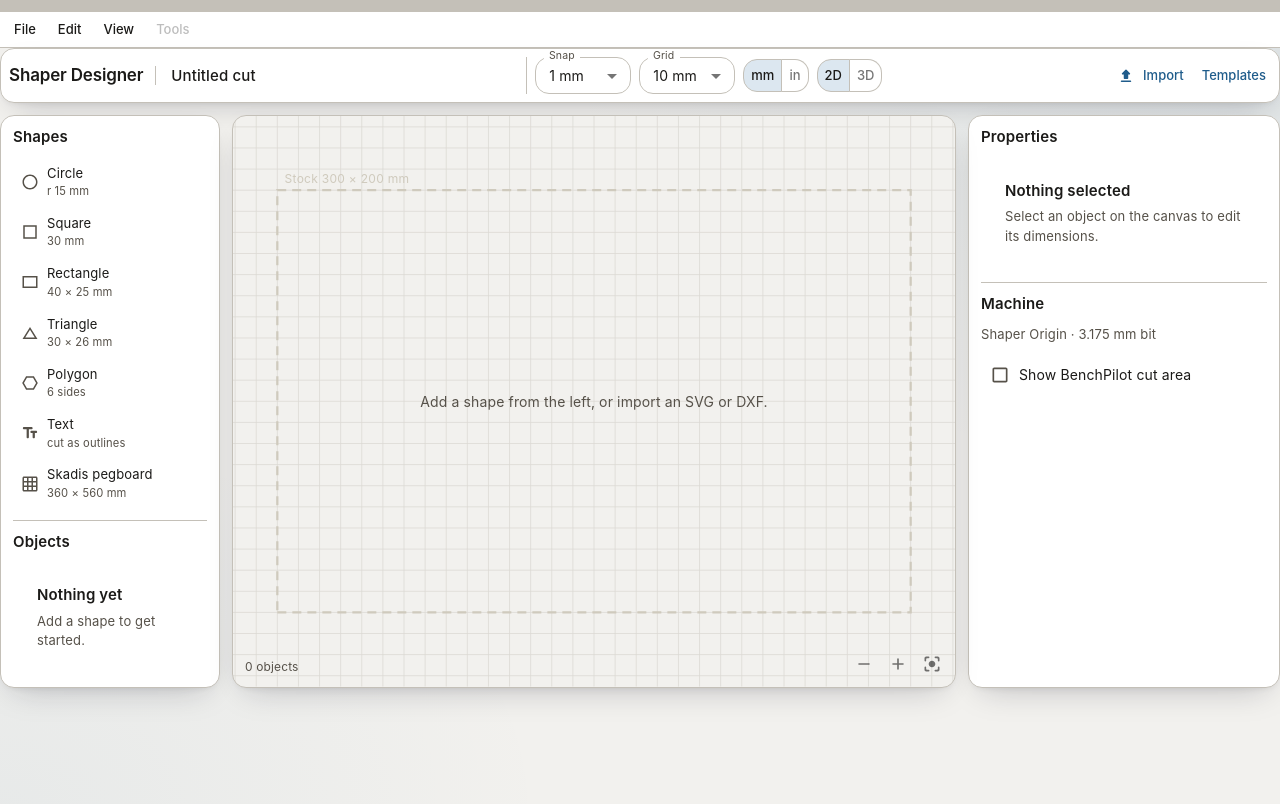
Test: a newly added shape defaults to an exterior cut, the only one that frees a part
The image size is (1280, 804).
Click the button "Circle r 15 mm".
click(55, 181)  # box [21,165,89,198]
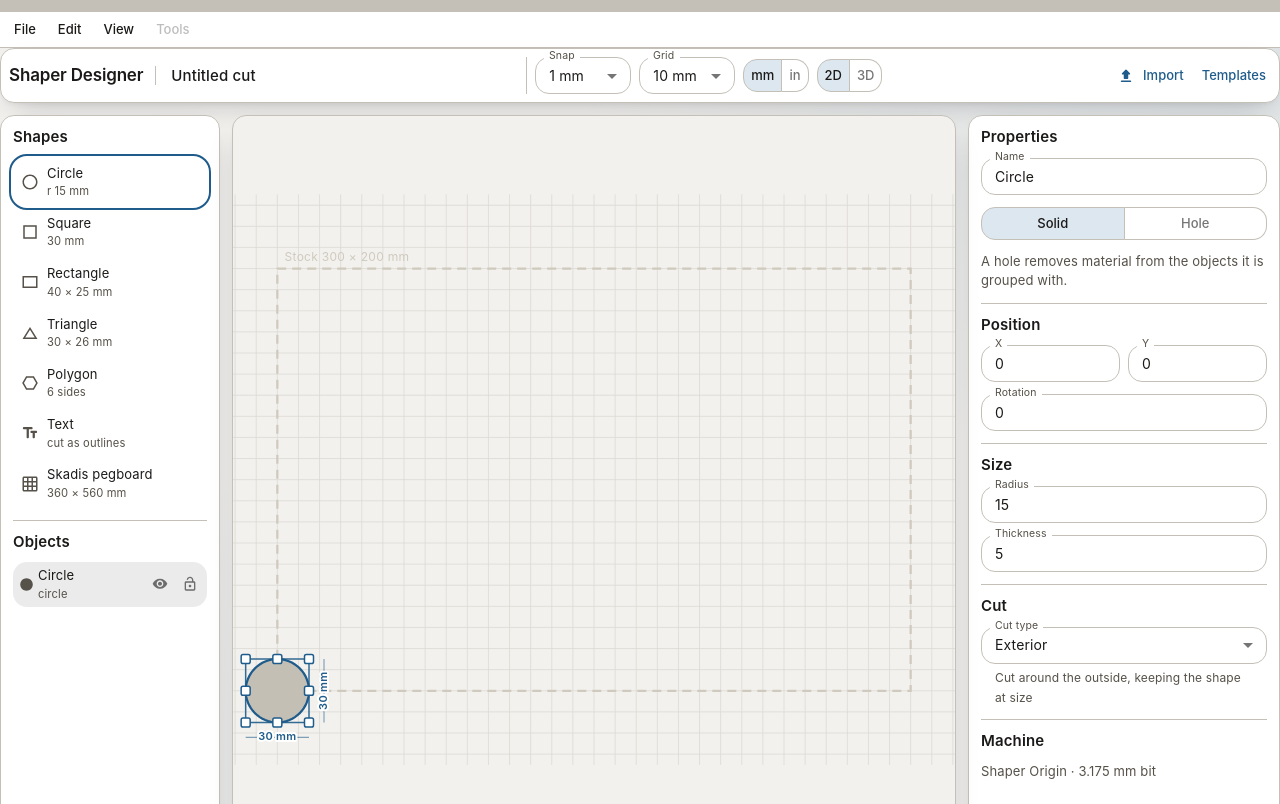
expect the dropdown named "Cut type" reads "Exterior": met, box [995,636,1048,653]
